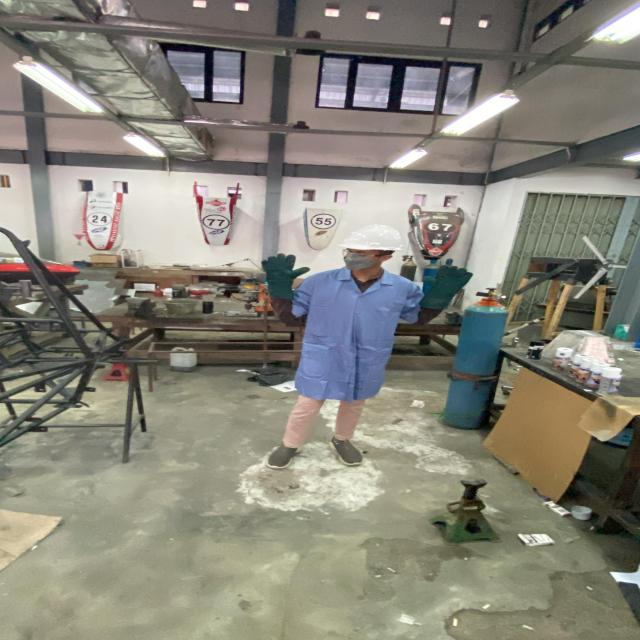face_mask: (341, 246, 385, 273)
glasses: (337, 247, 390, 258)
hand_glove: (416, 264, 476, 298), (254, 252, 315, 285)
head_helmet: (338, 222, 410, 254)
person: (234, 226, 485, 476)
shoes: (320, 433, 380, 472), (260, 432, 312, 472)
